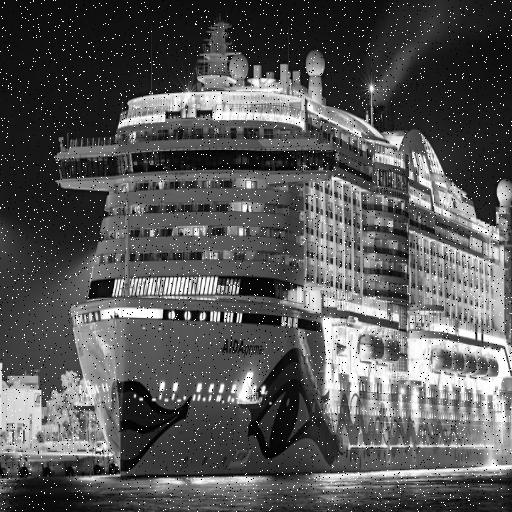cruises: (46, 1, 512, 478)
